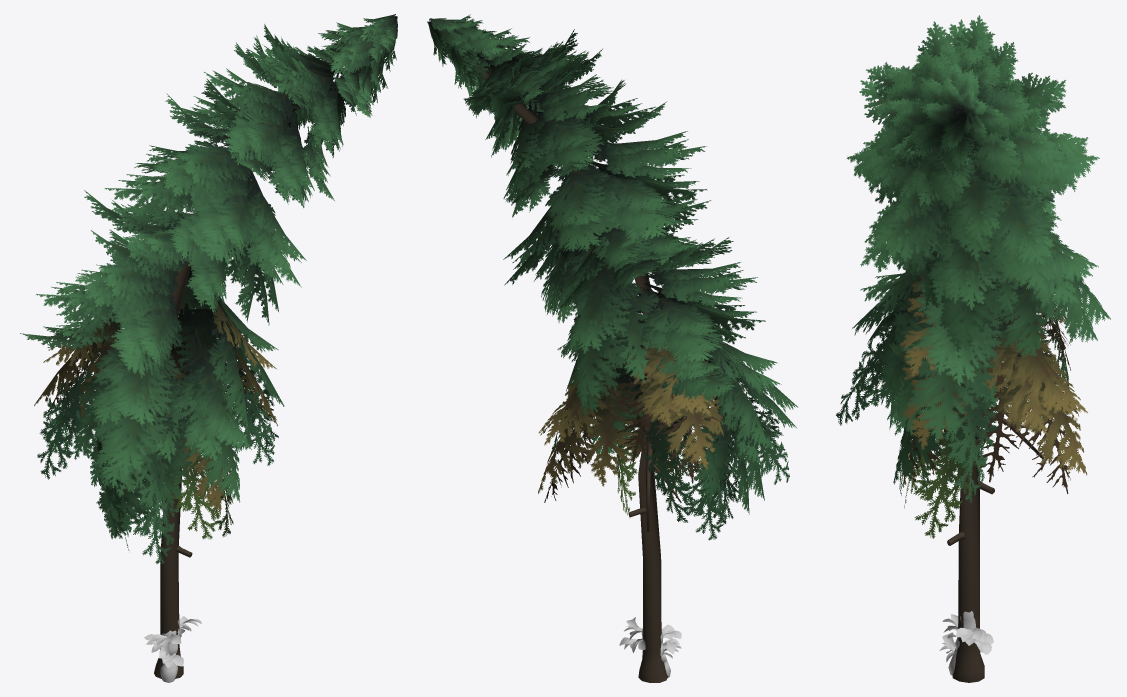
File: Fir_Bl+Ñ.L.B.X2.fbx
3 views of the same model, side by side, from view 1: azimuth 30°, elevation 25°; view 2: azimuth 150°, elevation 25°; view 3: azimuth 270°, elevation 25° (orthographic). The views are drawn at different scales.
Visible parts, largest first — view 1: Fir_Blå_L_B_X2; view 2: Fir_Blå_L_B_X2; view 3: Fir_Blå_L_B_X2.
Part boxes in pixels (bbox=[...]): Fir_Blå_L_B_X2: bbox=[20, 14, 397, 682]; Fir_Blå_L_B_X2: bbox=[427, 14, 798, 682]; Fir_Blå_L_B_X2: bbox=[836, 15, 1110, 682].
Size of the model in its own units: 732 by 1246 by 445.
